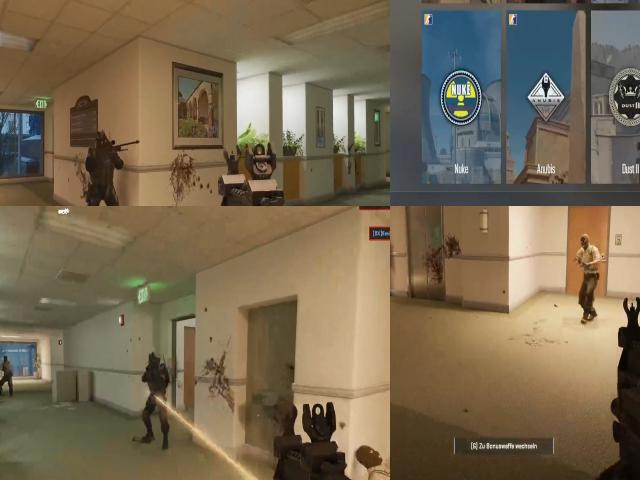CT: (82, 126, 121, 198), (144, 346, 169, 411)
CT-Head: (93, 129, 111, 150), (147, 350, 163, 373)
T: (578, 236, 603, 302), (0, 350, 14, 385)
T-Head: (578, 233, 592, 251), (0, 353, 10, 366)
